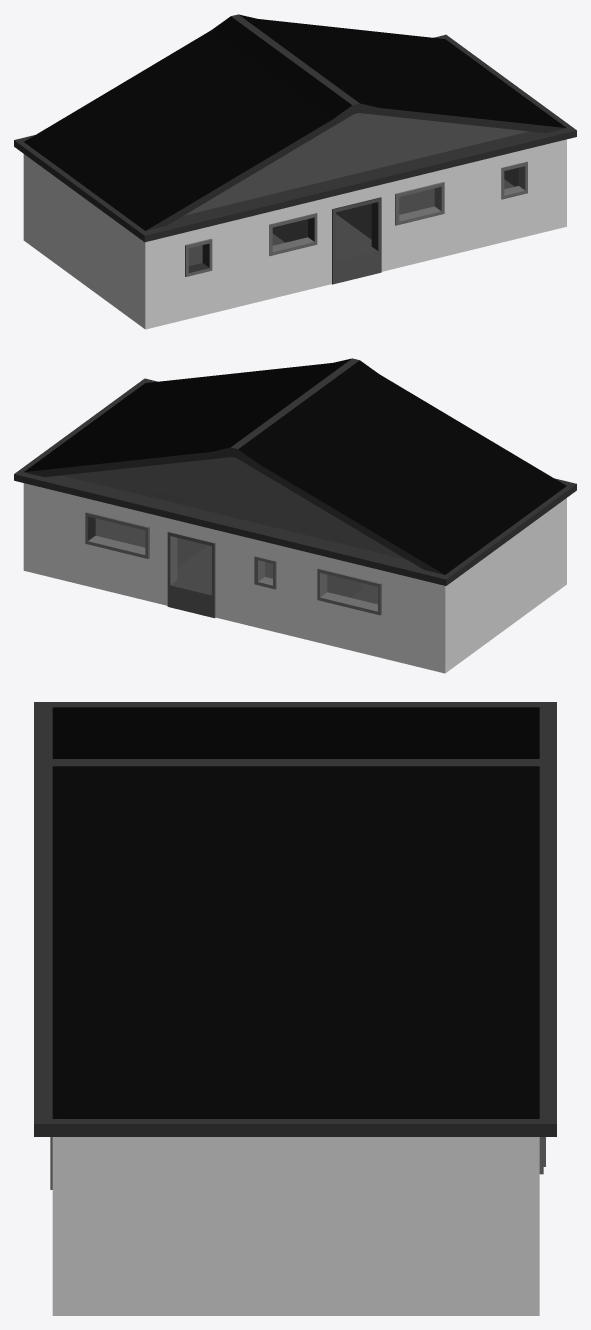
The model's file is Lobbby_house6.fbx.
3 views of the same model, one above another, from view 1: azimuth 30°, elevation 25°; view 2: azimuth 150°, elevation 25°; view 3: azimuth 270°, elevation 25° (orthographic). The views are drawn at different scales.
Visible parts, largest first — view 1: Cube; view 2: Cube; view 3: Cube.
Part boxes in pixels (<box>): Cube: <box>14,14,576,329</box>; Cube: <box>14,358,576,673</box>; Cube: <box>34,702,556,1315</box>.
Size of the model in its own units: 2050 by 788 by 1074.
